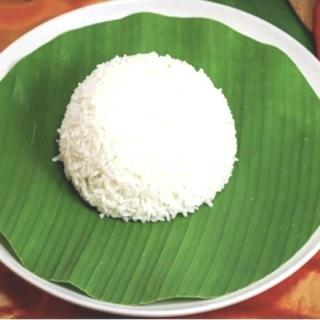Nasi: (52, 51, 240, 225)
